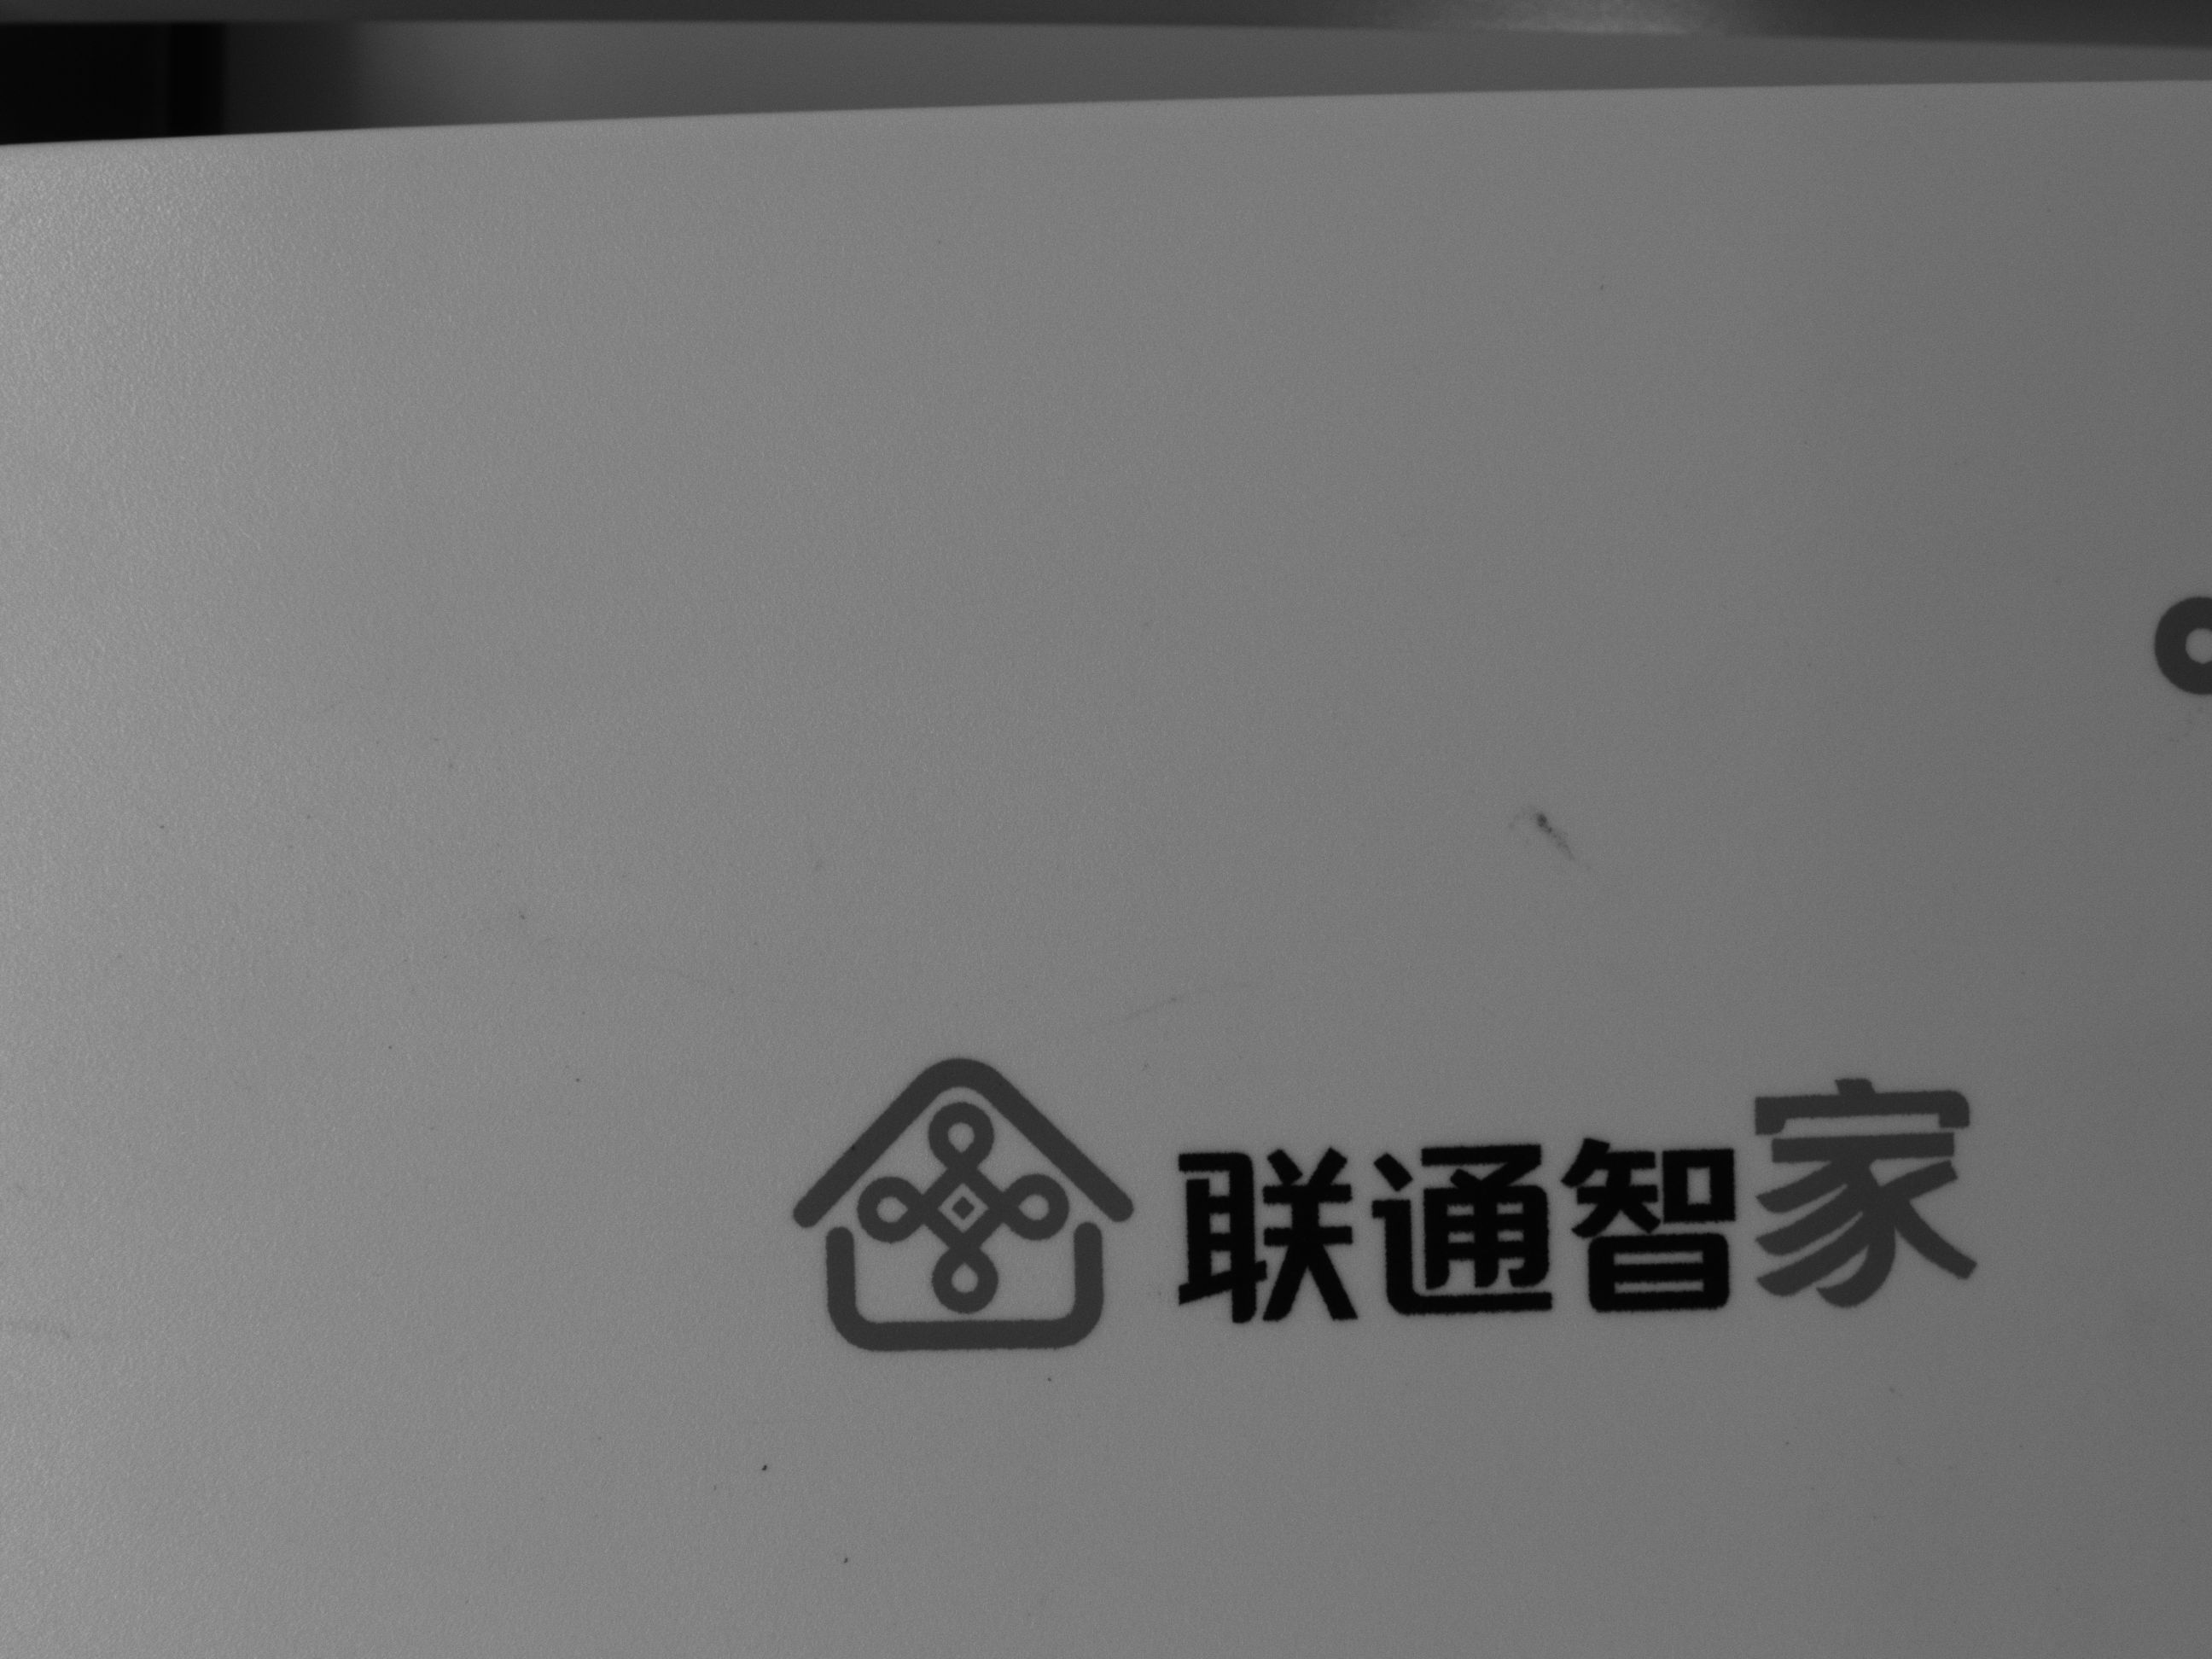BY_F6610Unicome: (737, 1021, 2003, 1375)
